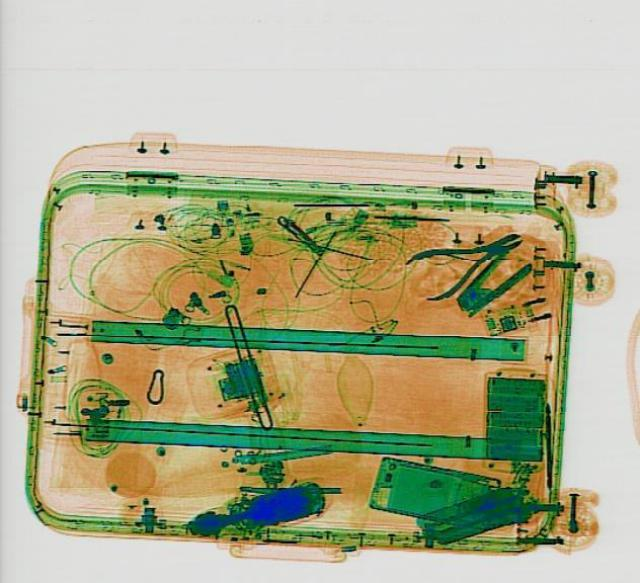Pliers: (401, 218, 533, 301)
